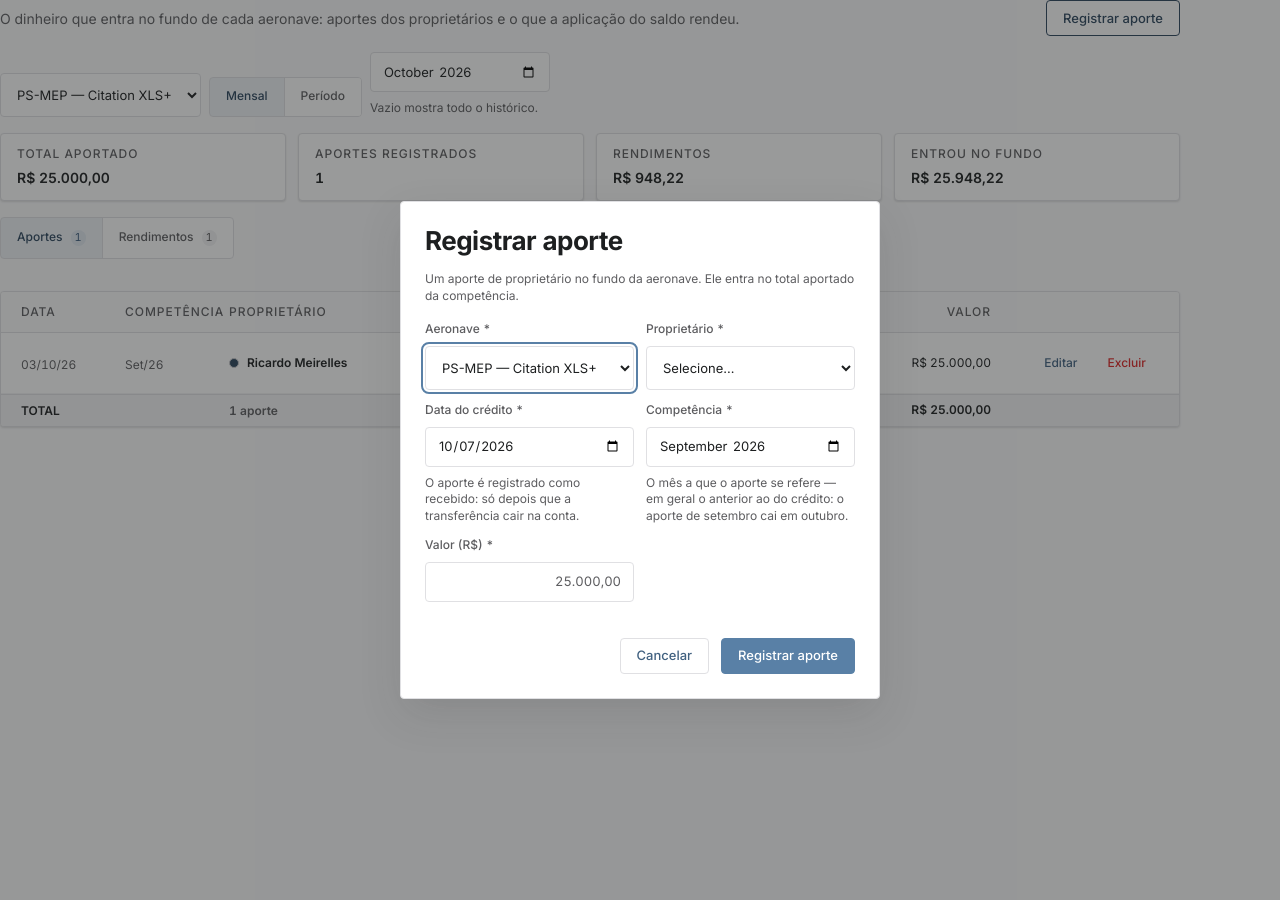
Scenario: PaginaDeAportes › o aporte salvo fora do recorte é confirmado, com o motivo de não aparecer na grade
Step 1. Select "Ricardo Meirelles" in the dropdown labelled "Proprietário" → (750, 368), box [646,346,855,390]
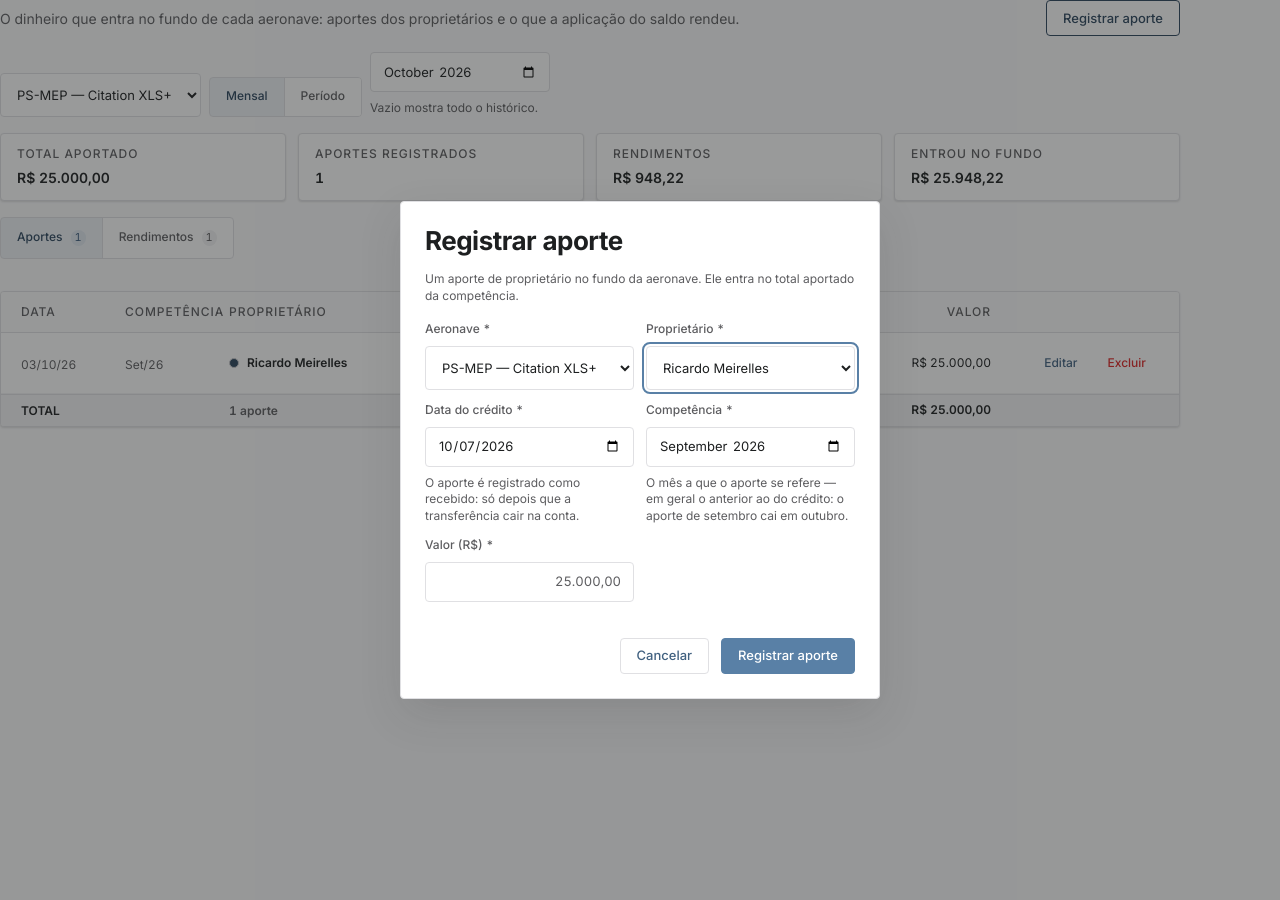
Step 2. Type "25.000" into the field labelled "Valor (R$)" → (530, 582), box [425,562,634,602]
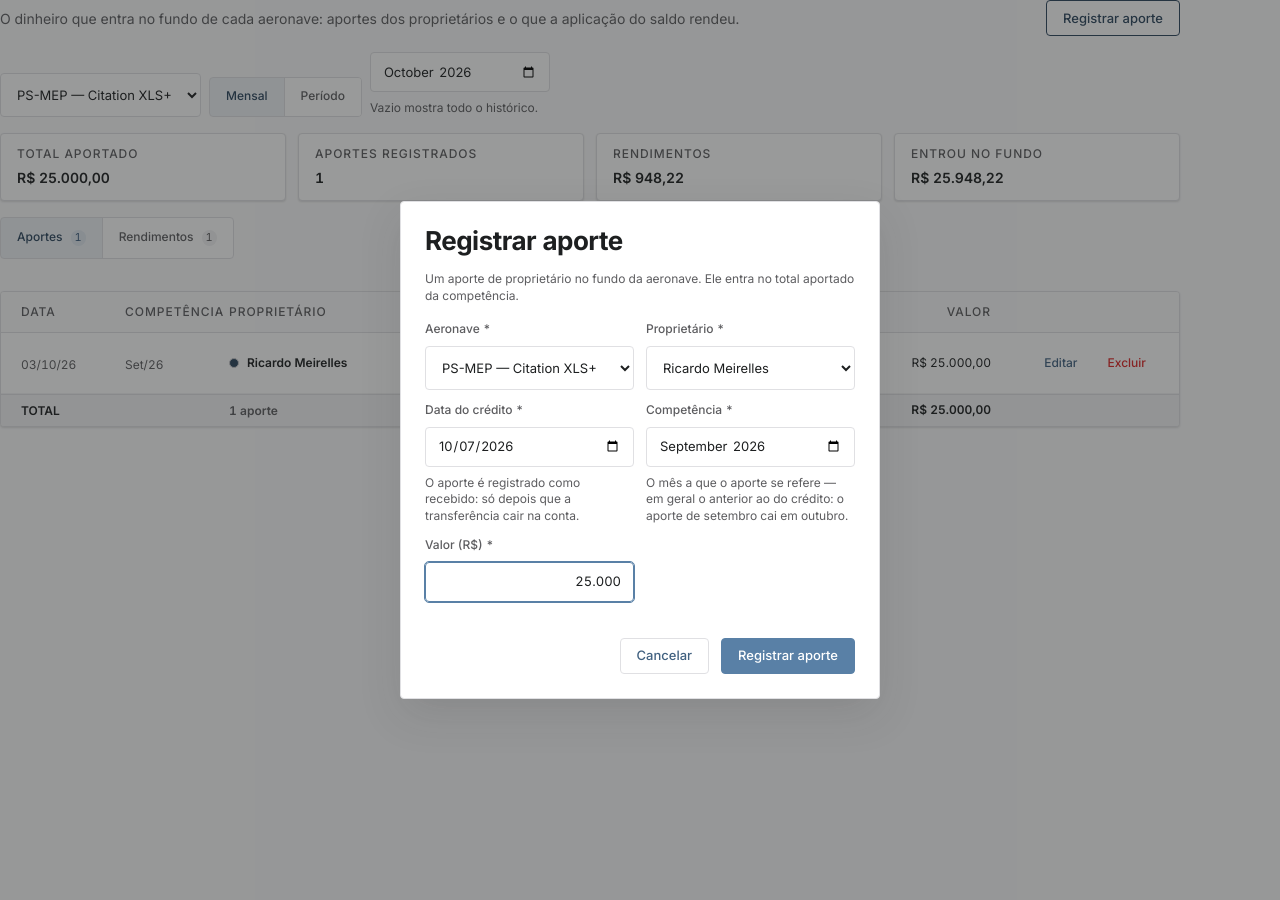
Step 3. Click the button "Registrar aporte" → click(788, 656), box [721,638,855,674]
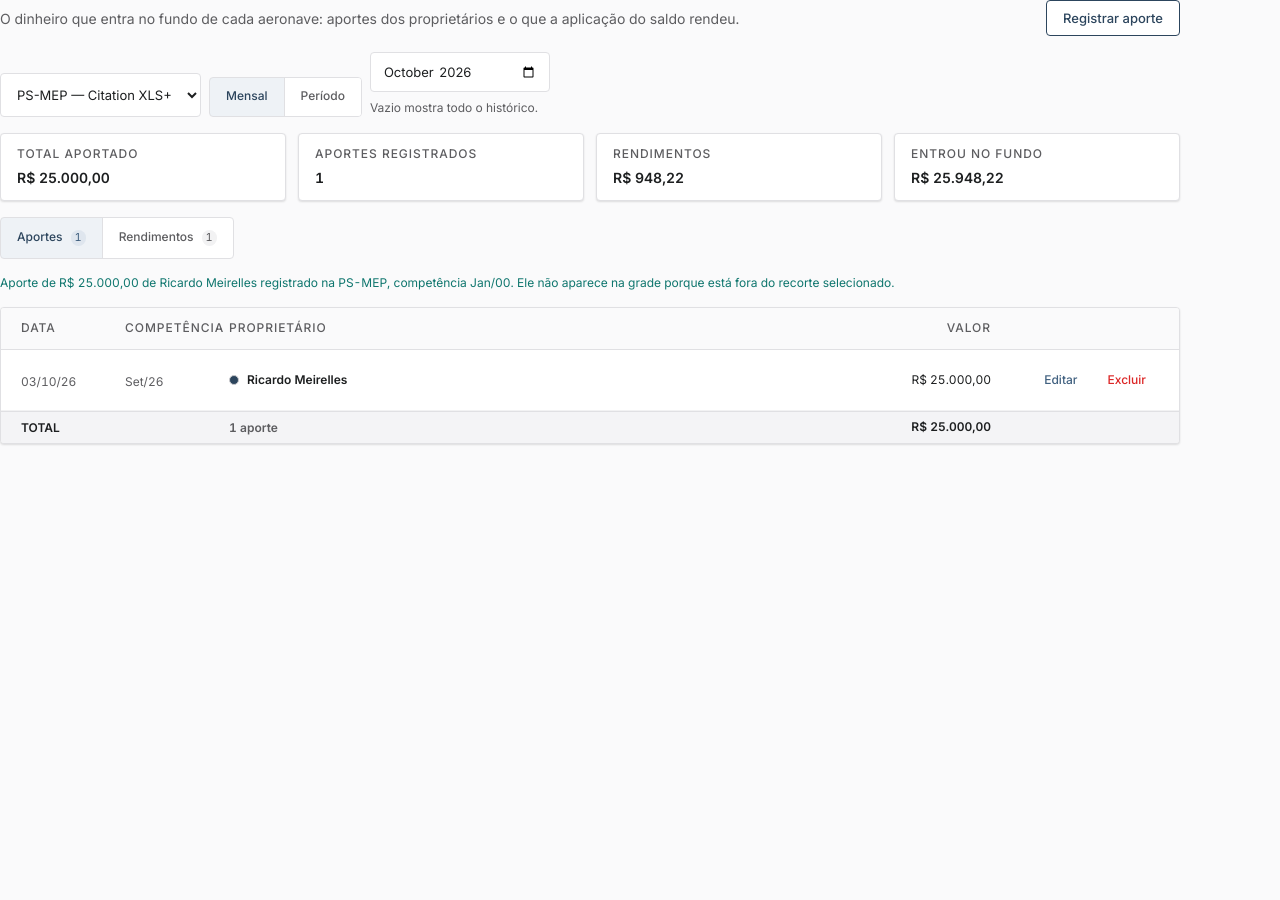
expect the text "registrado na PS-MEP, competência Jan/00. Ele não aparece na grade porque está fora do recorte selecionado." is shown: met, box [0,275,894,290]
